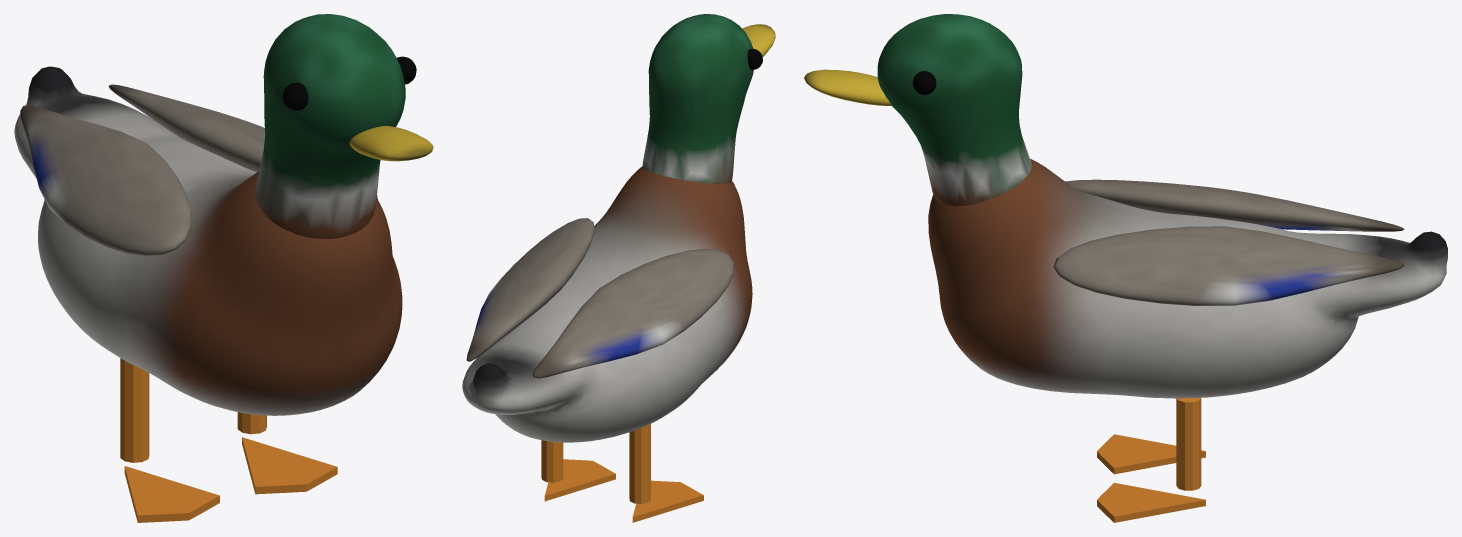
The model's file is duck.glb.
The picture shows the model from 3 angles, left to right: view 1: azimuth 30°, elevation 25°; view 2: azimuth 150°, elevation 25°; view 3: azimuth 270°, elevation 25°; orthographic projection. The views are drawn at different scales.
Parts seen in each view (by area): view 1: Body, Head, WingR, LegR, WingL, LegL, Eyes; view 2: Body, Head, WingR, WingL, LegR, LegL; view 3: Body, Head, WingL, WingR, LegL, LegR.
Boxes of the visible parts, x1,y1,x2,y2 form: Body: [14, 66, 402, 415]; Head: [255, 14, 433, 238]; WingR: [20, 105, 191, 255]; LegR: [120, 358, 219, 522]; WingL: [108, 84, 377, 199]; LegL: [237, 412, 337, 494]; Eyes: [282, 56, 416, 110]; Body: [462, 166, 752, 442]; Head: [642, 14, 775, 183]; WingR: [532, 248, 733, 378]; WingL: [466, 218, 594, 361]; LegR: [629, 424, 703, 522]; LegL: [541, 440, 615, 501]; Body: [928, 158, 1447, 398]; Head: [804, 14, 1031, 206]; WingL: [1053, 226, 1404, 306]; WingR: [1065, 179, 1404, 231]; LegL: [1097, 397, 1205, 522]; LegR: [1097, 434, 1205, 474].
Bounding box in the file's own units: 0.2144 × 0.4445 × 0.5605.
